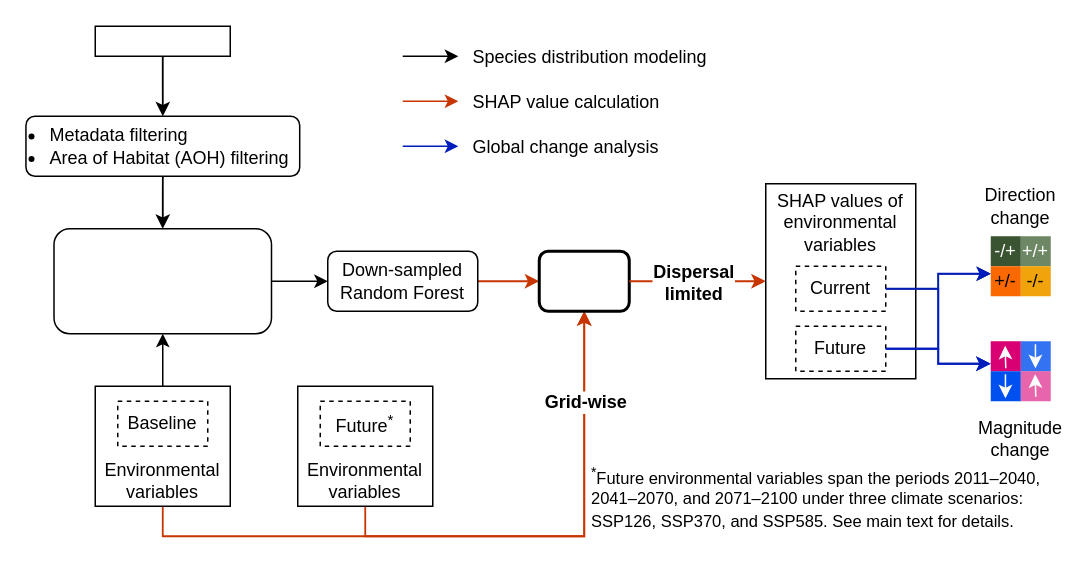
Image size: 1092x576. Some labels were removed from this diagram. The shapes that lost their labels are listed below. From the top down, each one's centre as x and y in pixels, then its label:
point 162,40: Occurrences
point 162,280: Habitat domain Background sampling Environmental filtering Variable selection
point 583,280: SHAP
